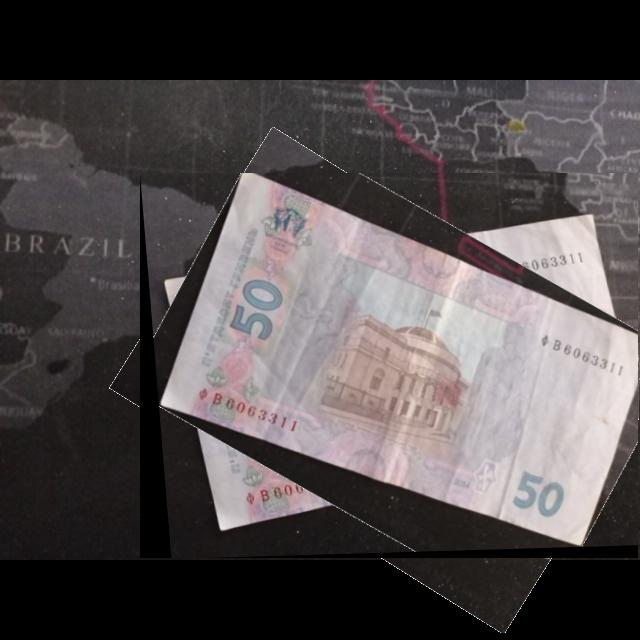50uah: (155, 173, 639, 550)
